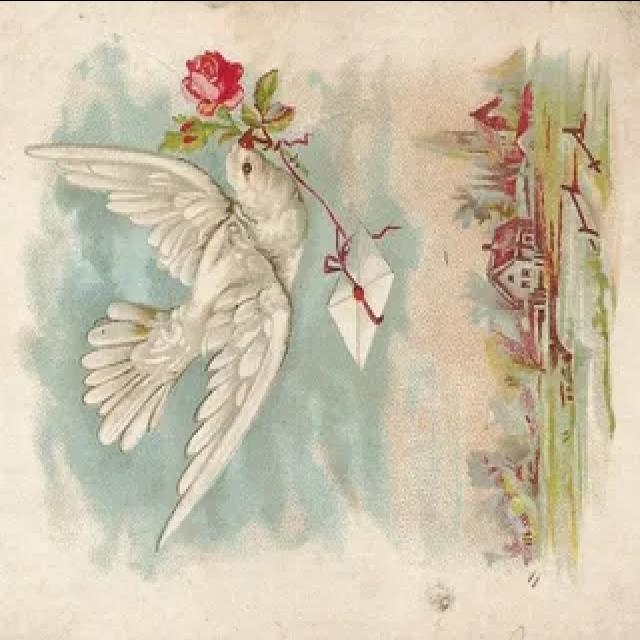pigeon: (25, 106, 318, 562)
